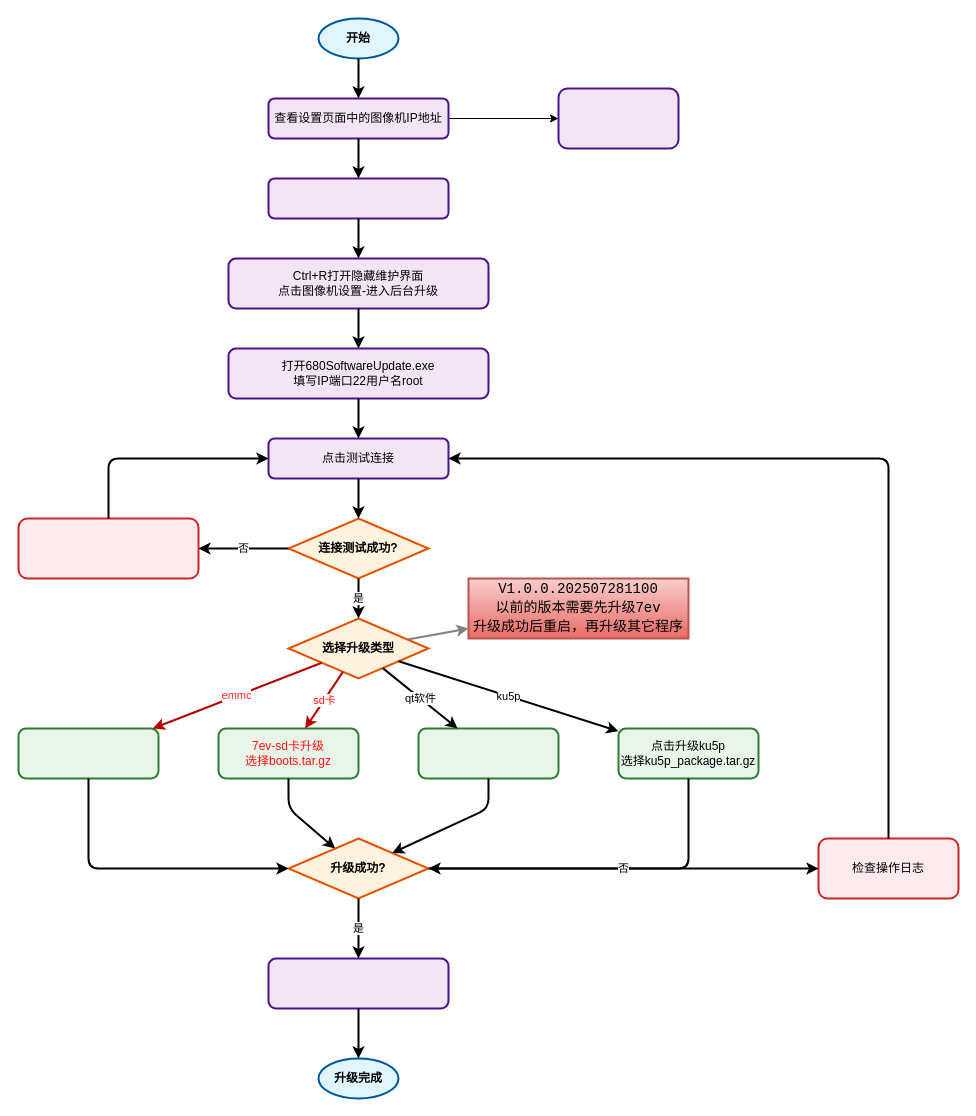
Some shapes in this 976 by 1116 pixel diagram are drawn without their labels. The shapes that lost their labels are listed below. From the top down, each one's centre as x and y in pixels, then its label:
At point (618, 118): "F1->设置->通用设置->本地IP->IP地址".
At point (358, 198): "图像机进入root管理员".
At point (108, 548): "检查图像机IP地址 配置电脑以太网".
At point (88, 753): "7ev-emmc升级 选择boots.tar.gz".
At point (488, 753): "点击升级qt软件 选择qt_update.tar.gz".
At point (358, 983): "图像机点击退出 重启图像机".
